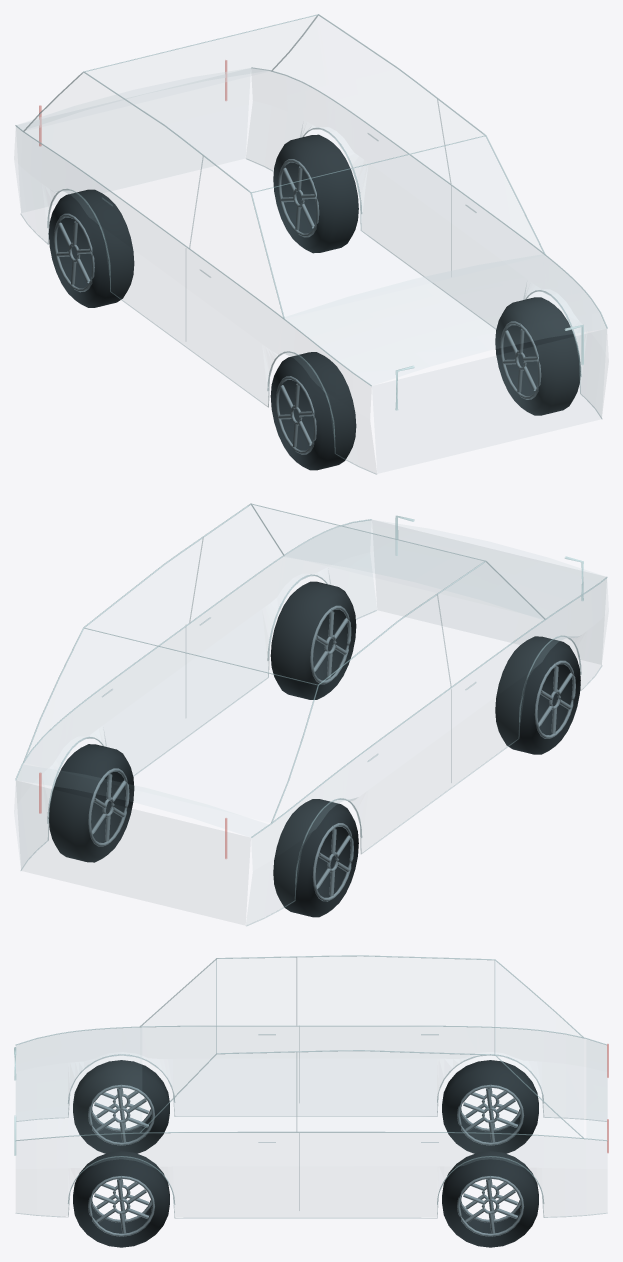
Rendered from kia_ev3.glb.
3 renders of one model, top to bottom at view 1: azimuth 30°, elevation 25°; view 2: azimuth 150°, elevation 25°; view 3: azimuth 270°, elevation 25°, orthographic. The views are drawn at different scales.
Parts seen in each view (by area): view 1: shell_body, shell_tyre_left_rear, shell_tyre_right_rear, shell_tyre_right_front, shell_tyre_left_front, shell_contours, shell_details, shell_rim_right_front, shell_rim_left_front, shell_rim_right_rear, shell_rim_left_rear; view 2: shell_body, shell_tyre_right_front, shell_tyre_right_rear, shell_tyre_left_front, shell_tyre_left_rear, shell_contours, shell_details, shell_rim_left_front, shell_rim_left_rear, shell_rim_right_front, shell_rim_right_rear; view 3: shell_body, shell_tyre_left_front, shell_tyre_left_rear, shell_tyre_right_front, shell_tyre_right_rear, shell_contours, shell_rim_left_rear, shell_rim_left_front, shell_rim_right_rear, shell_rim_right_front, shell_details.
Boxes of the visible parts, bbox=[...] form: shell_body: bbox=[16, 68, 606, 448]; shell_tyre_left_rear: bbox=[273, 134, 358, 253]; shell_tyre_right_rear: bbox=[48, 189, 134, 307]; shell_tyre_right_front: bbox=[270, 352, 356, 470]; shell_tyre_left_front: bbox=[495, 297, 580, 415]; shell_contours: bbox=[15, 14, 607, 437]; shell_details: bbox=[20, 99, 602, 474]; shell_rim_right_front: bbox=[275, 376, 316, 454]; shell_rim_left_front: bbox=[500, 321, 541, 399]; shell_rim_right_rear: bbox=[53, 213, 94, 292]; shell_rim_left_rear: bbox=[278, 159, 319, 237]; shell_body: bbox=[16, 520, 606, 892]; shell_tyre_right_front: bbox=[495, 636, 580, 754]; shell_tyre_right_rear: bbox=[273, 799, 358, 917]; shell_tyre_left_front: bbox=[270, 581, 356, 699]; shell_tyre_left_rear: bbox=[48, 744, 134, 862]; shell_contours: bbox=[15, 503, 607, 884]; shell_details: bbox=[20, 537, 602, 926]; shell_rim_left_front: bbox=[310, 605, 351, 684]; shell_rim_left_rear: bbox=[88, 768, 129, 846]; shell_rim_right_front: bbox=[534, 660, 575, 738]; shell_rim_right_rear: bbox=[312, 823, 353, 901]; shell_body: bbox=[16, 1027, 607, 1168]; shell_tyre_left_front: bbox=[73, 1151, 169, 1247]; shell_tyre_left_rear: bbox=[442, 1151, 538, 1247]; shell_tyre_right_front: bbox=[73, 1060, 169, 1153]; shell_tyre_right_rear: bbox=[442, 1060, 538, 1153]; shell_contours: bbox=[15, 955, 607, 1204]; shell_rim_left_rear: bbox=[457, 1176, 524, 1236]; shell_rim_left_front: bbox=[88, 1176, 154, 1236]; shell_rim_right_rear: bbox=[457, 1084, 524, 1145]; shell_rim_right_front: bbox=[88, 1084, 154, 1145]; shell_details: bbox=[16, 958, 607, 1218].
Bounding box in the file's own units: 1.86 × 1.56 × 4.32.
